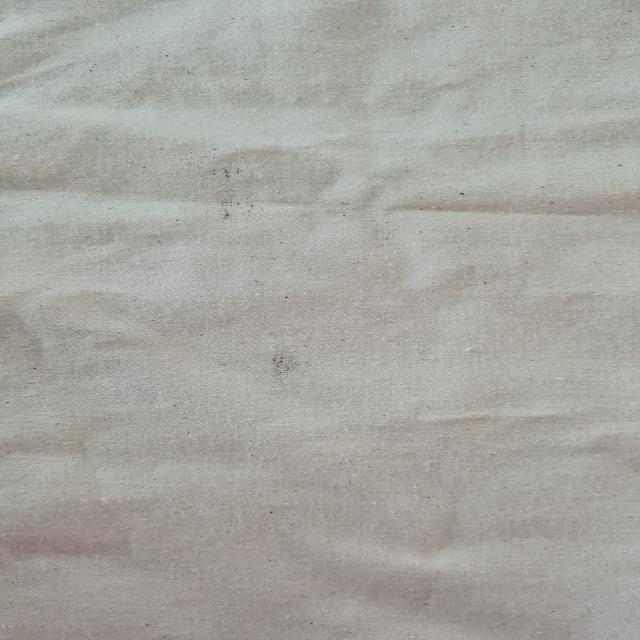taaaches: (250, 344, 324, 386)
